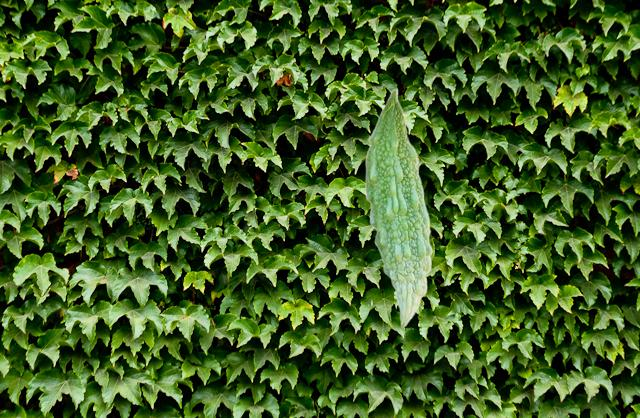ampalaya: (364, 88, 433, 328)
